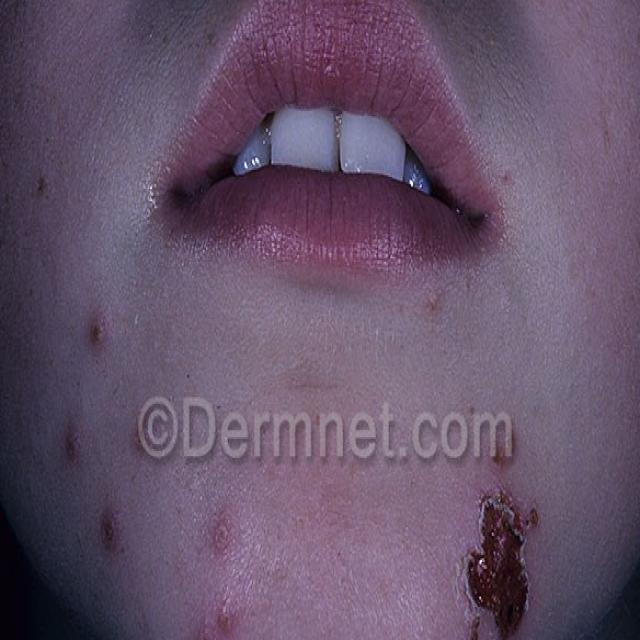Viral Infections: (455, 439, 560, 640), (189, 499, 255, 640), (76, 295, 128, 376), (121, 406, 163, 480), (486, 416, 527, 480), (92, 506, 129, 570), (61, 429, 94, 489)
